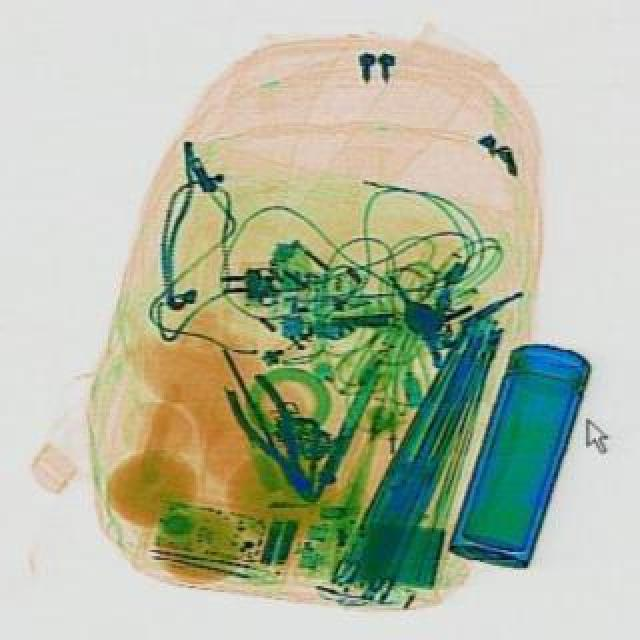wrench: (216, 368, 332, 512)
